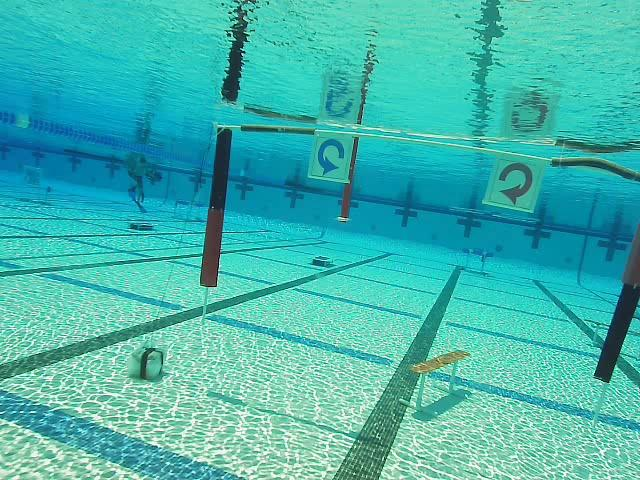gate_blue: (309, 135, 352, 182)
gate_leg_l: (200, 127, 235, 288)
gate_red: (488, 157, 543, 211)
table: (457, 247, 493, 278)
